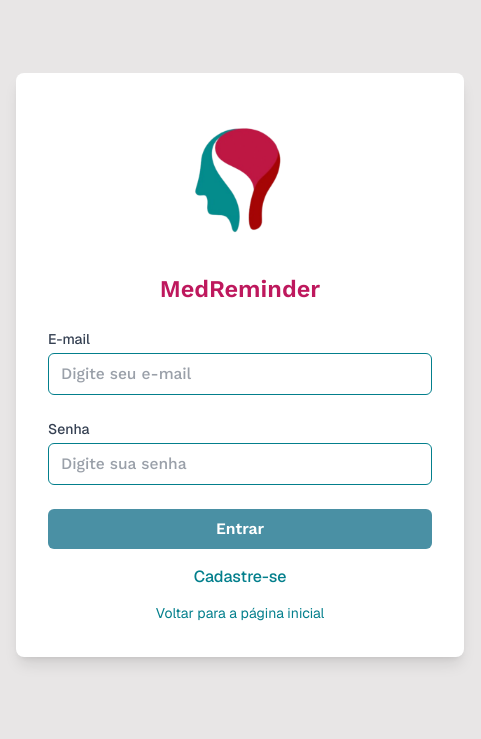
Scenario: NET-02 NET-03 login feedback › ERR-01 ERR-17 falha de perfil não expõe diagnóstico técnico
Type "pessoa@example.test" into the field labelled "E-mail" at x=240, y=374, box [48,353,432,395]
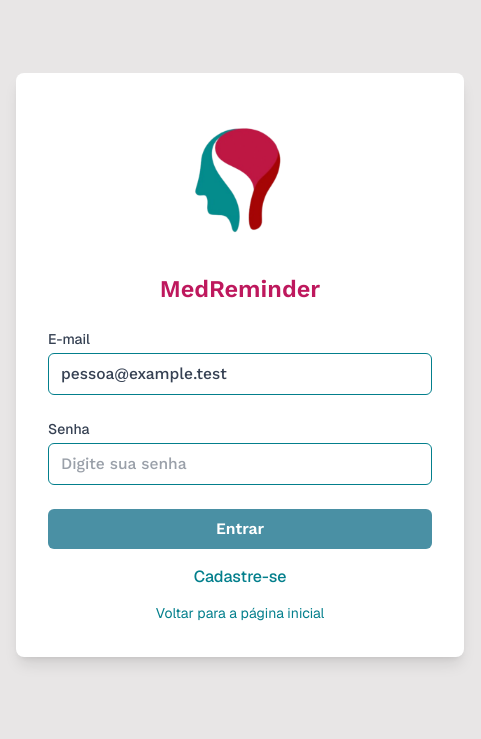
Type "Senha123!" into the password field labelled "Senha" at x=240, y=464, box [48,443,432,485]
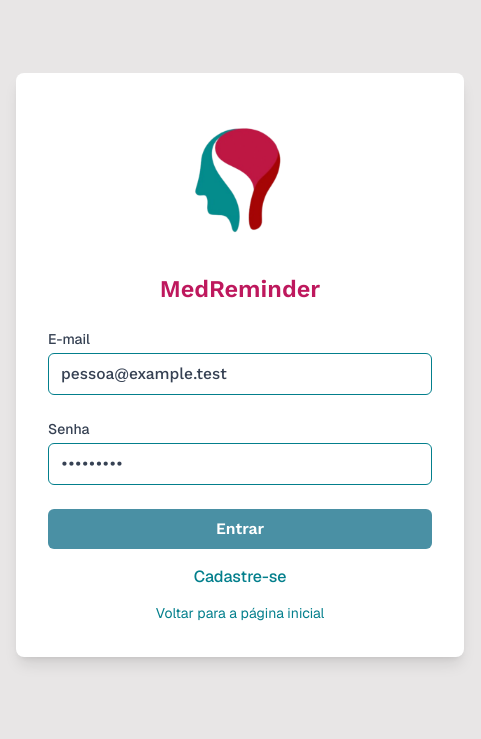
Click the button "Entrar" at x=240, y=529, box [48,509,432,549]
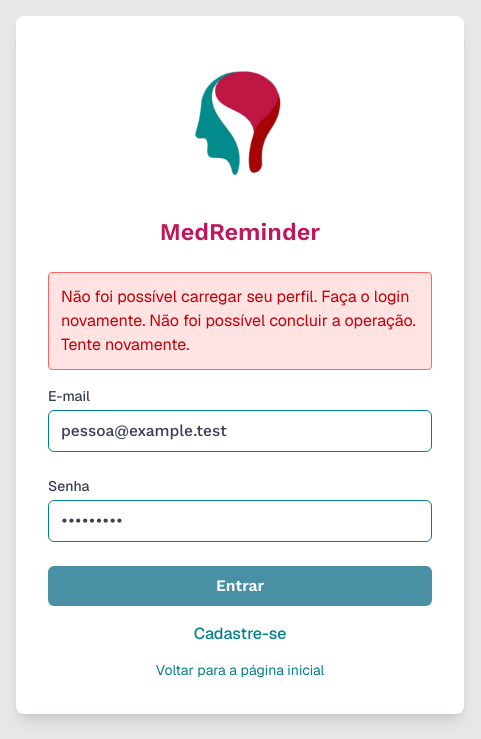
Expected: the message does not show "internal", [48,272,432,370]
Now the message shows "Não foi possível carregar seu perfil. Faça o login novamente.", box [61,286,416,355]
